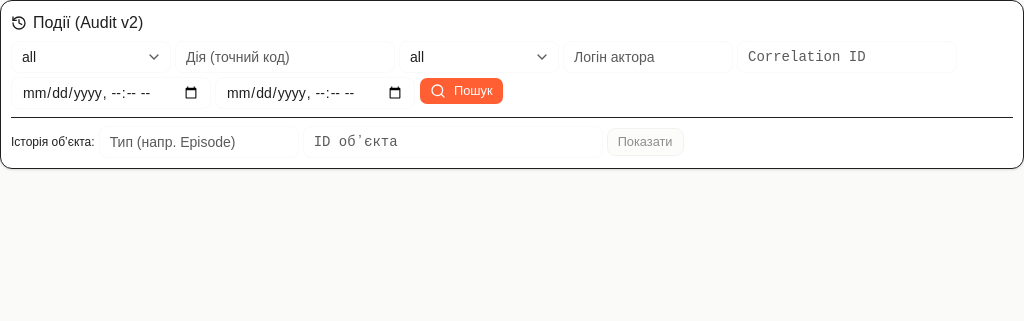
Test case: AuditEventConsole › searches with combined filters and renders rows
This screenshot has width=1024, height=321.
What coordinates should you click on to do the following:
click the button "Пошук"
I would click on:
 (461, 91)
Its box is left=419, top=77, right=504, bottom=105.
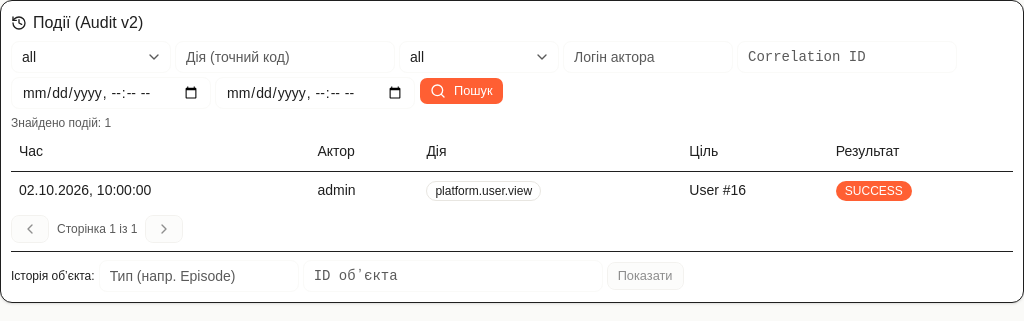
expect the text "platform.user.view" is shown: met, box left=426, top=180, right=541, bottom=200
expect the text "Знайдено подій: 1" is shown: met, box left=11, top=116, right=111, bottom=130
